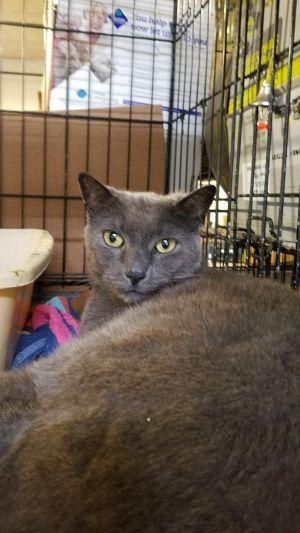rblue: (70, 166, 218, 325)
